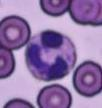N: (25, 30, 76, 80)
